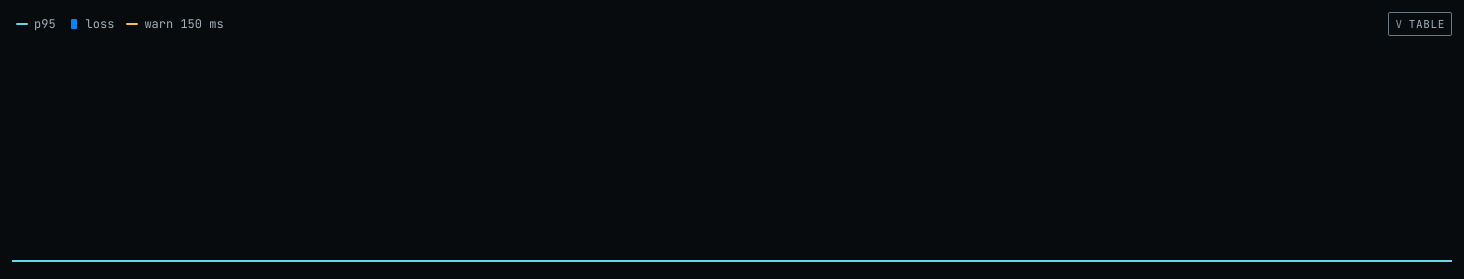
Test: table view twin › ignores v when single-key shortcuts are off, but the button still works
The image size is (1464, 279).
Type keys "v"
Click the button "v Table".
click(1420, 24)  # box [1388,12,1452,36]
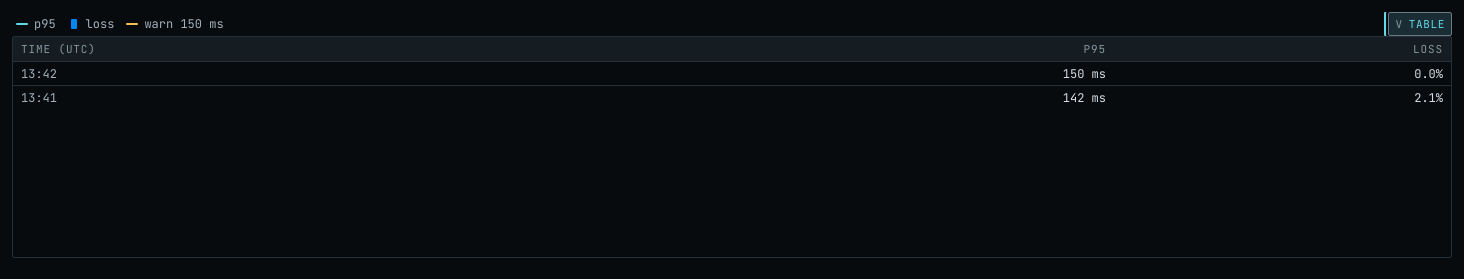
Expected: the table is shown, [13,37,1451,110]
